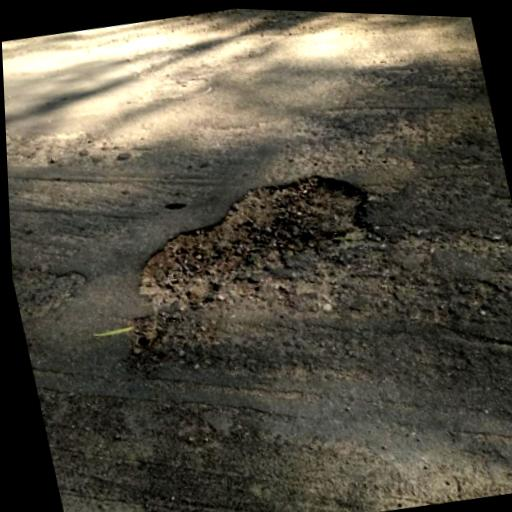pothole: (112, 153, 393, 323)
